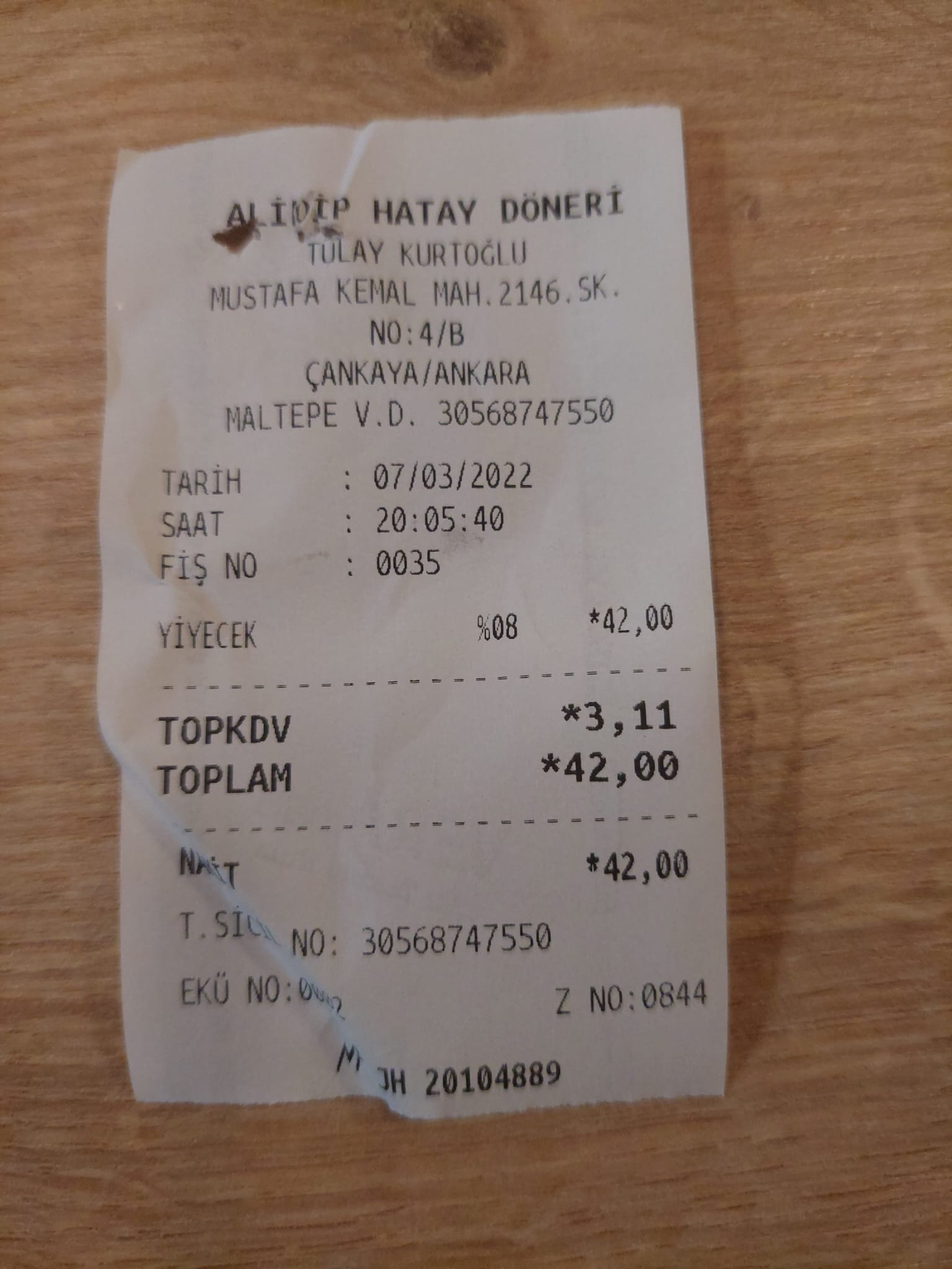date: (361, 451, 552, 504)
price: (562, 734, 699, 799)
workplace: (177, 180, 644, 395)
